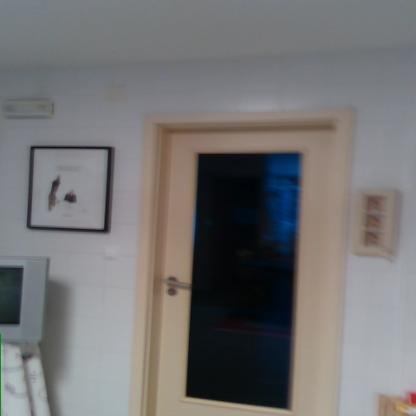closed: (136, 101, 359, 414)
